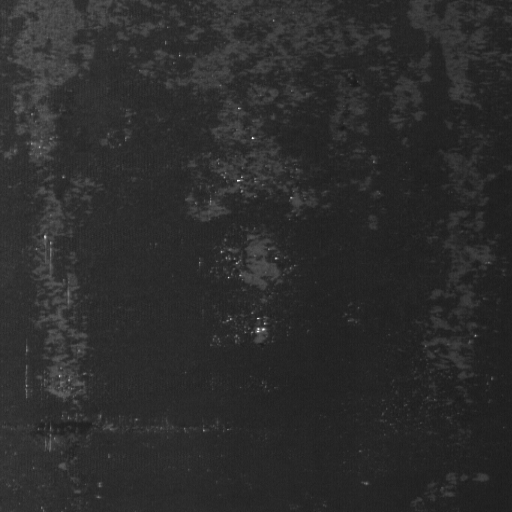hengxiangliewen: (1, 412, 232, 437)
